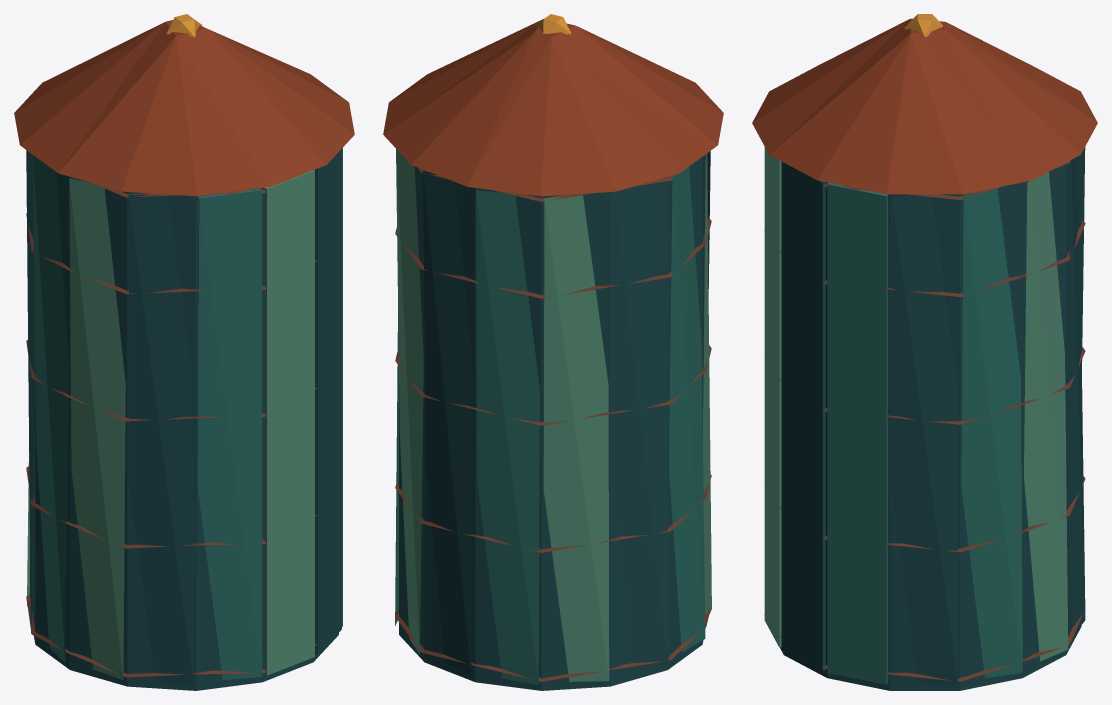
The model's file is grove_silo-lod1.glb.
3 renders of one model, left to right at view 1: azimuth 30°, elevation 25°; view 2: azimuth 150°, elevation 25°; view 3: azimuth 270°, elevation 25°, orthographic.
Visible parts, largest first — view 1: grove_silo; view 2: grove_silo; view 3: grove_silo.
Part boxes in pixels (x1,y1,x2,y2): grove_silo: (14,14,354,690); grove_silo: (383,14,723,690); grove_silo: (752,14,1097,690).
Bounding box in the file's own units: 8.5 × 16.95 × 8.72.
